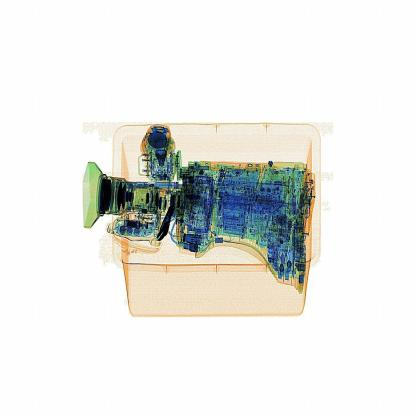knife: (148, 194, 180, 246)
